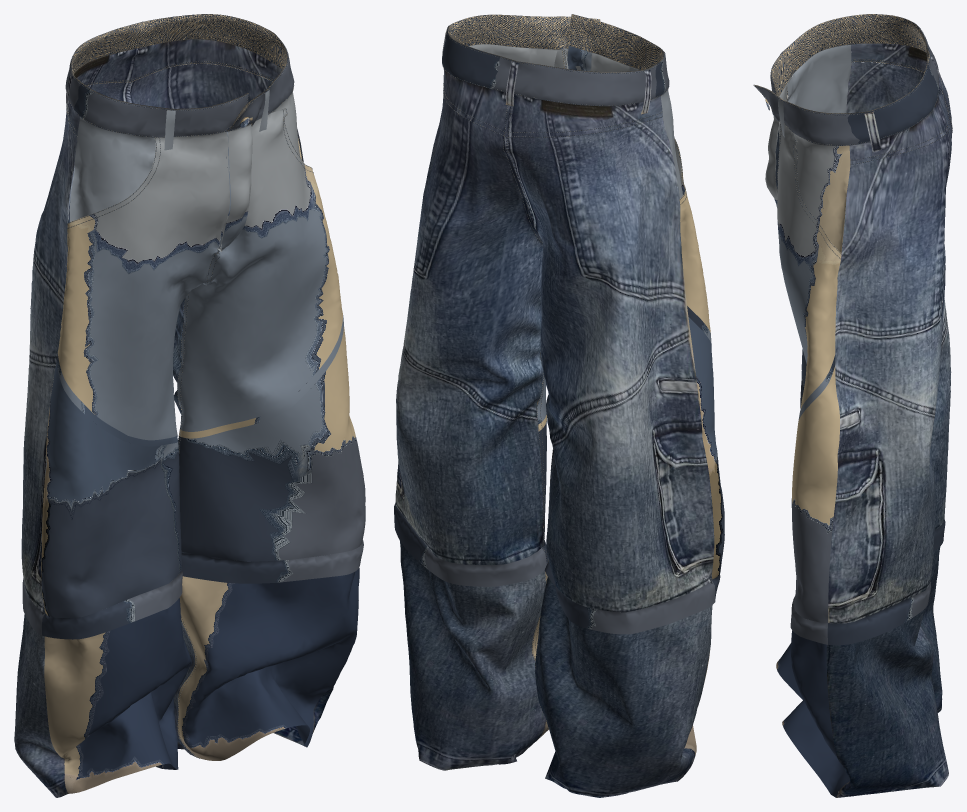
The model's file is baggy.glb.
3 renders of one model, left to right at view 1: azimuth 30°, elevation 25°; view 2: azimuth 150°, elevation 25°; view 3: azimuth 270°, elevation 25°, orthographic. The views are drawn at different scales.
Parts seen in each view (by area): view 1: Object_4, Object_15; view 2: Object_15, Object_4; view 3: Object_15, Object_4.
Part boxes in pixels (x1,y1,x2,y2): Object_4: [22, 14, 365, 793]; Object_15: [14, 21, 333, 797]; Object_15: [395, 25, 714, 797]; Object_4: [394, 14, 724, 755]; Object_15: [826, 43, 952, 797]; Object_4: [753, 14, 952, 797].
Bounding box in the file's own units: 0.7816 × 1.68 × 0.4408.
2 materials, 2 textured.
